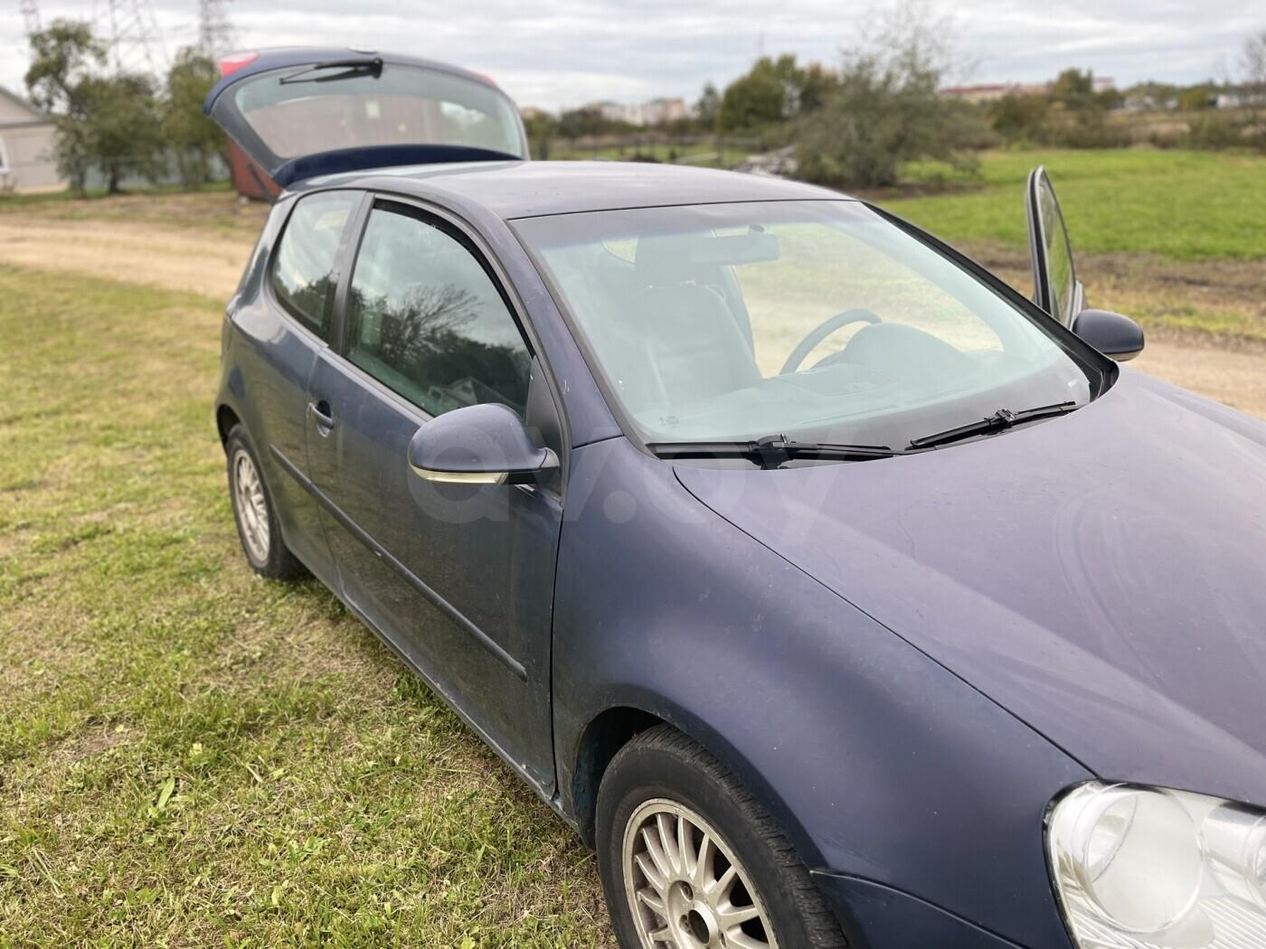Golf_2003-2009: (210, 152, 1266, 949)
